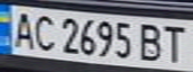2: (54, 15, 81, 55)
5: (112, 18, 139, 61)
6: (75, 16, 100, 56)
9: (93, 17, 118, 57)
A: (6, 8, 39, 50)
B: (136, 20, 166, 62)
C: (30, 11, 57, 52)
T: (160, 21, 190, 63)
